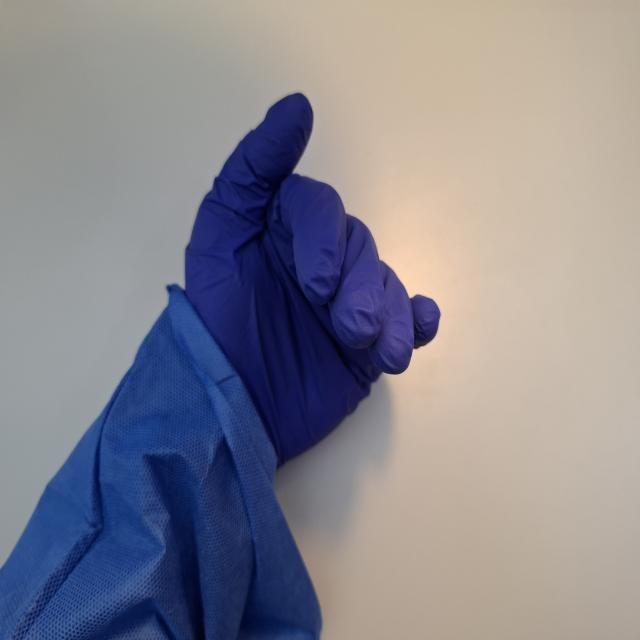glove_on: (182, 90, 444, 478)
